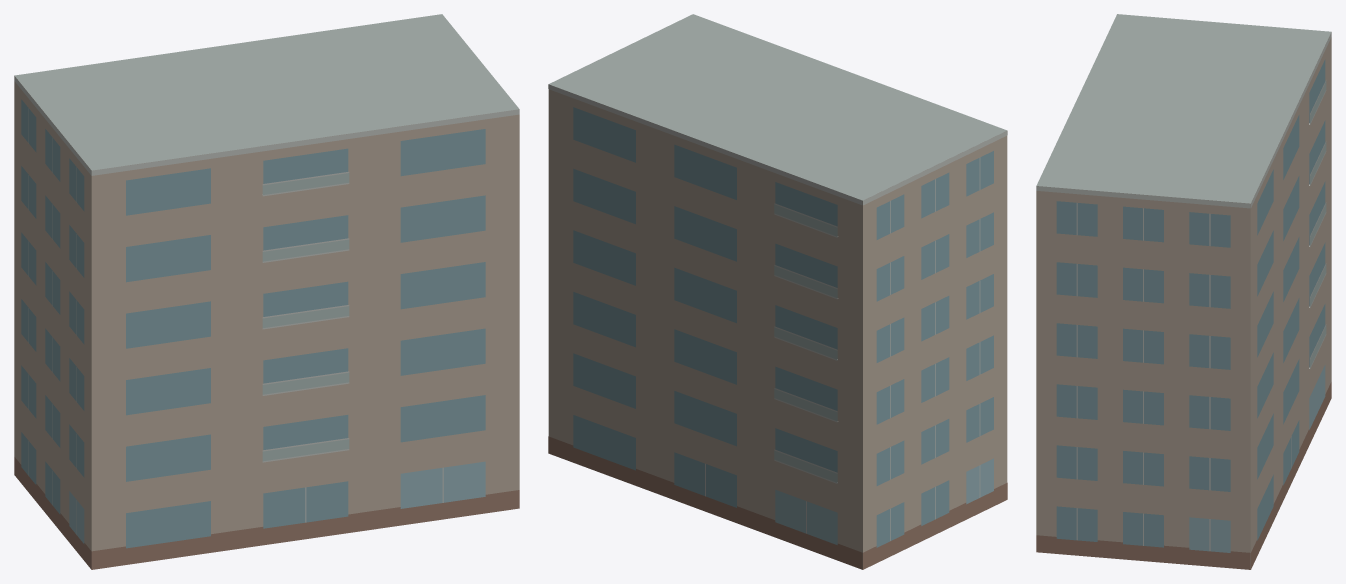
Rendered from survey-upis-32993814.glb.
The picture shows the model from 3 angles, left to right: view 1: azimuth 30°, elevation 25°; view 2: azimuth 150°, elevation 25°; view 3: azimuth 270°, elevation 25°; orthographic projection. The views are drawn at different scales.
Visible parts, largest first — view 1: survey-upis-32993814.tmp; view 2: survey-upis-32993814.tmp; view 3: survey-upis-32993814.tmp.
Part boxes in pixels (x1,y1,x2,y2): survey-upis-32993814.tmp: [14, 14, 519, 569]; survey-upis-32993814.tmp: [548, 14, 1007, 569]; survey-upis-32993814.tmp: [1036, 14, 1331, 569].
Bounding box in the file's own units: 20.32 × 18.3 × 13.38.
